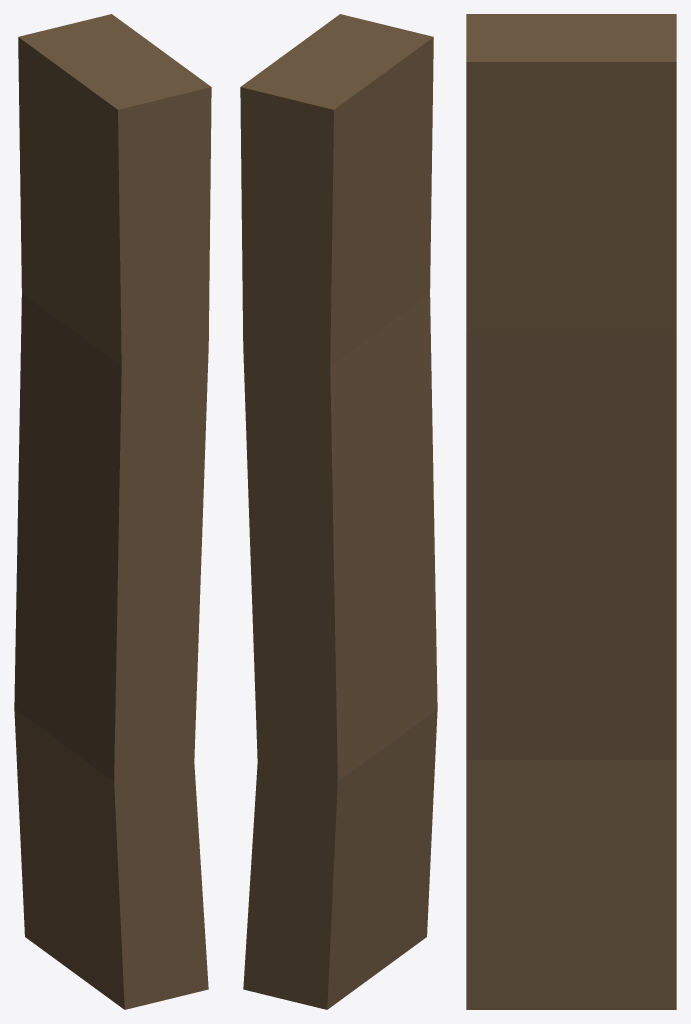
The model's file is rpgpp_ag_wall_connector_between_01_3m.fbx.
3 views of the same model, side by side, from view 1: azimuth 30°, elevation 25°; view 2: azimuth 150°, elevation 25°; view 3: azimuth 270°, elevation 25° (orthographic). The views are drawn at different scales.
Parts seen in each view (by area): view 1: rpgpp_ag_wall_connector_between_01_3m; view 2: rpgpp_ag_wall_connector_between_01_3m; view 3: rpgpp_ag_wall_connector_between_01_3m.
Boxes of the visible parts, x1,y1,x2,y2 form: rpgpp_ag_wall_connector_between_01_3m: (14,14,211,1009); rpgpp_ag_wall_connector_between_01_3m: (240,14,437,1009); rpgpp_ag_wall_connector_between_01_3m: (466,14,676,1009).
Bounding box in the file's own units: 0.3393 × 3 × 0.6017.
